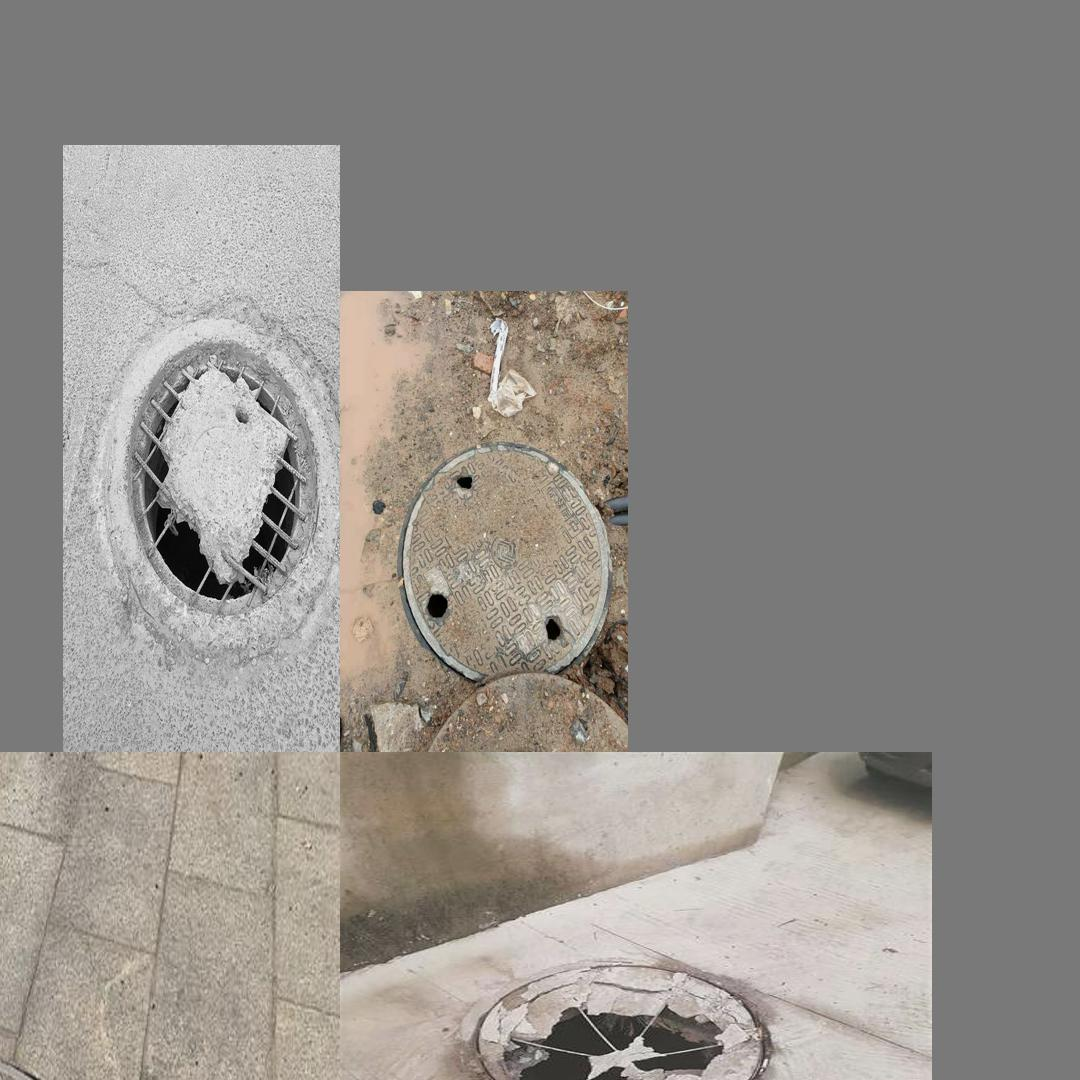broke: (102, 296, 333, 650), (398, 441, 613, 685), (414, 954, 815, 1080), (0, 1003, 141, 1080)
